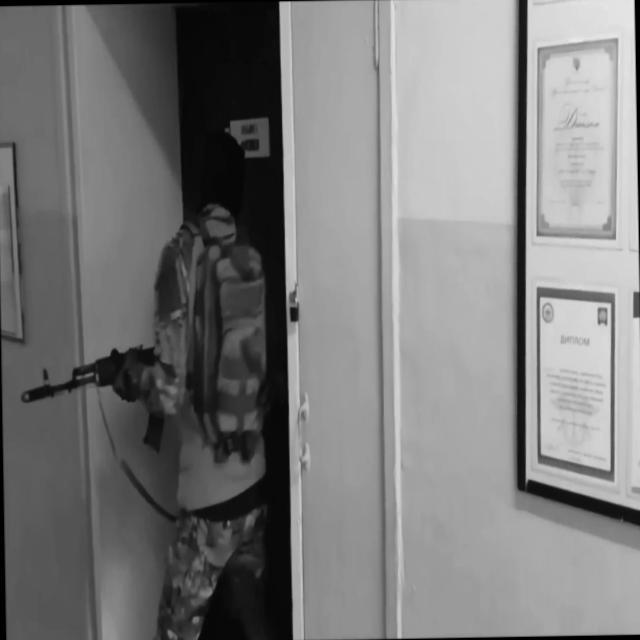gun: (17, 341, 166, 458)
person with a gun: (13, 127, 273, 640)
